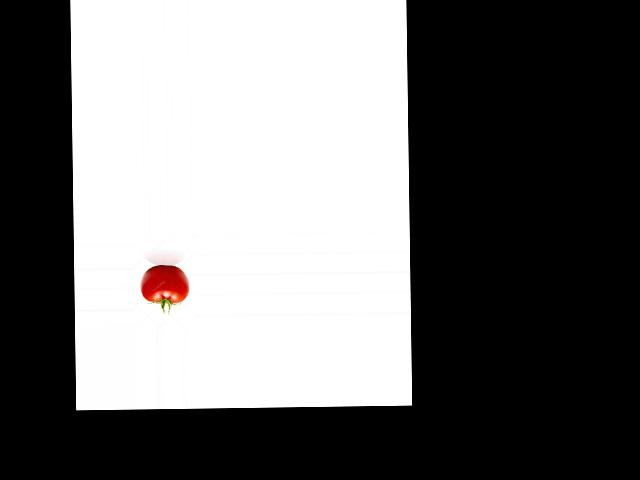tomato: (139, 265, 189, 303)
